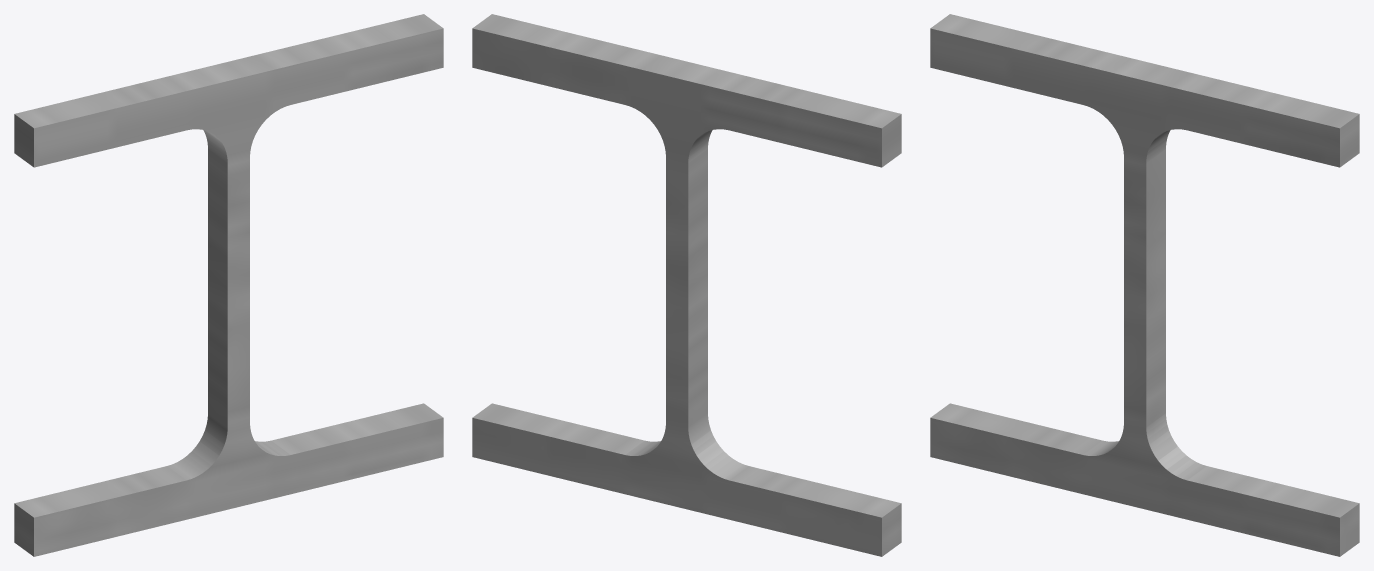
Rendered from HEB120.glb.
3 views of the same model, side by side, from view 1: azimuth 30°, elevation 25°; view 2: azimuth 150°, elevation 25°; view 3: azimuth 330°, elevation 25° (orthographic).
Size of the model in its own units: 12 by 12 by 1.
1 material, 1 textured.
